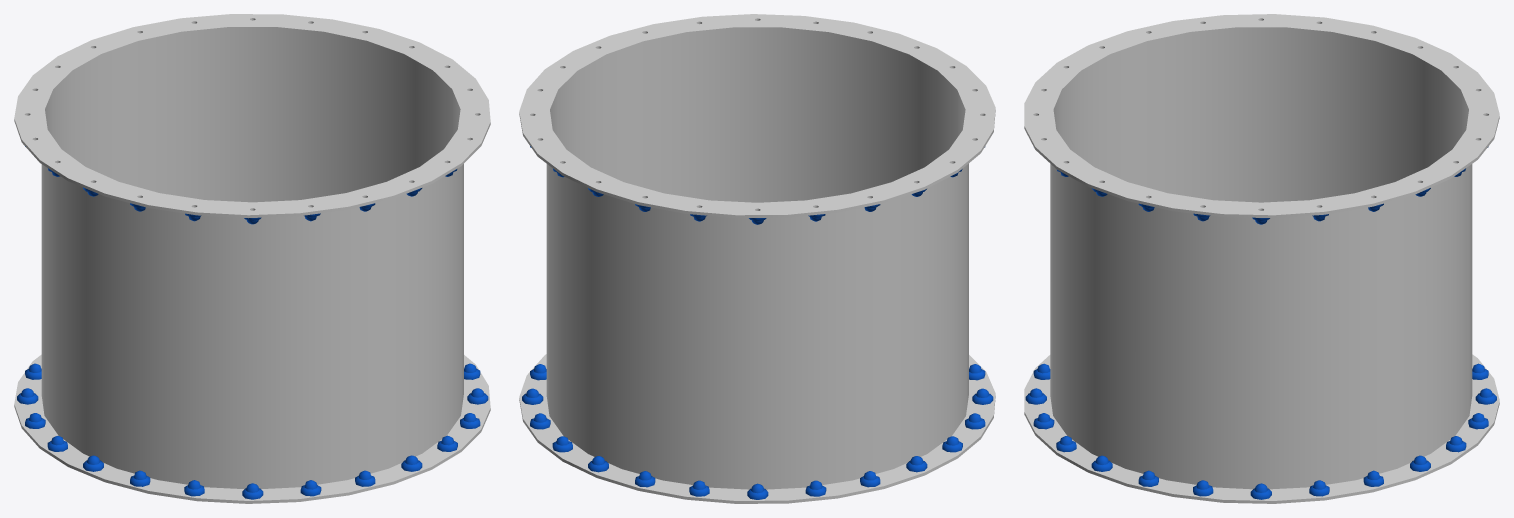
The model's file is Straight-59.fbx.
The picture shows the model from 3 angles, left to right: view 1: azimuth 30°, elevation 25°; view 2: azimuth 150°, elevation 25°; view 3: azimuth 270°, elevation 25°; orthographic projection.
Visible parts, largest first — view 1: lige_59_obj, Origin_nuts, SnapPoint_nuts; view 2: lige_59_obj, Origin_nuts, SnapPoint_nuts; view 3: lige_59_obj, Origin_nuts, SnapPoint_nuts.
Part boxes in pixels (bbox=[...]): lige_59_obj: bbox=[14, 14, 490, 503]; Origin_nuts: bbox=[17, 363, 488, 499]; SnapPoint_nuts: bbox=[25, 146, 457, 224]; lige_59_obj: bbox=[519, 14, 995, 503]; Origin_nuts: bbox=[522, 364, 993, 499]; SnapPoint_nuts: bbox=[530, 146, 985, 224]; lige_59_obj: bbox=[1024, 14, 1499, 503]; Origin_nuts: bbox=[1025, 363, 1496, 499]; SnapPoint_nuts: bbox=[1057, 146, 1488, 224].
Size of the model in its own units: 87.87 by 58.76 by 87.74.
